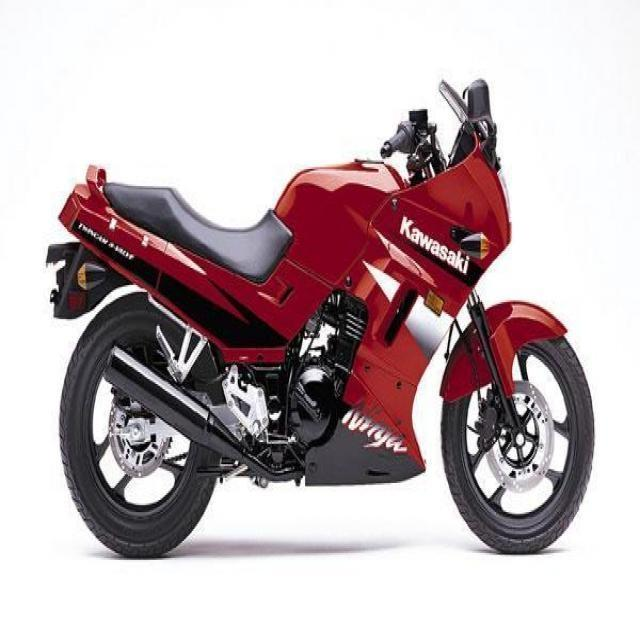Motorcycle: (49, 66, 606, 560)
